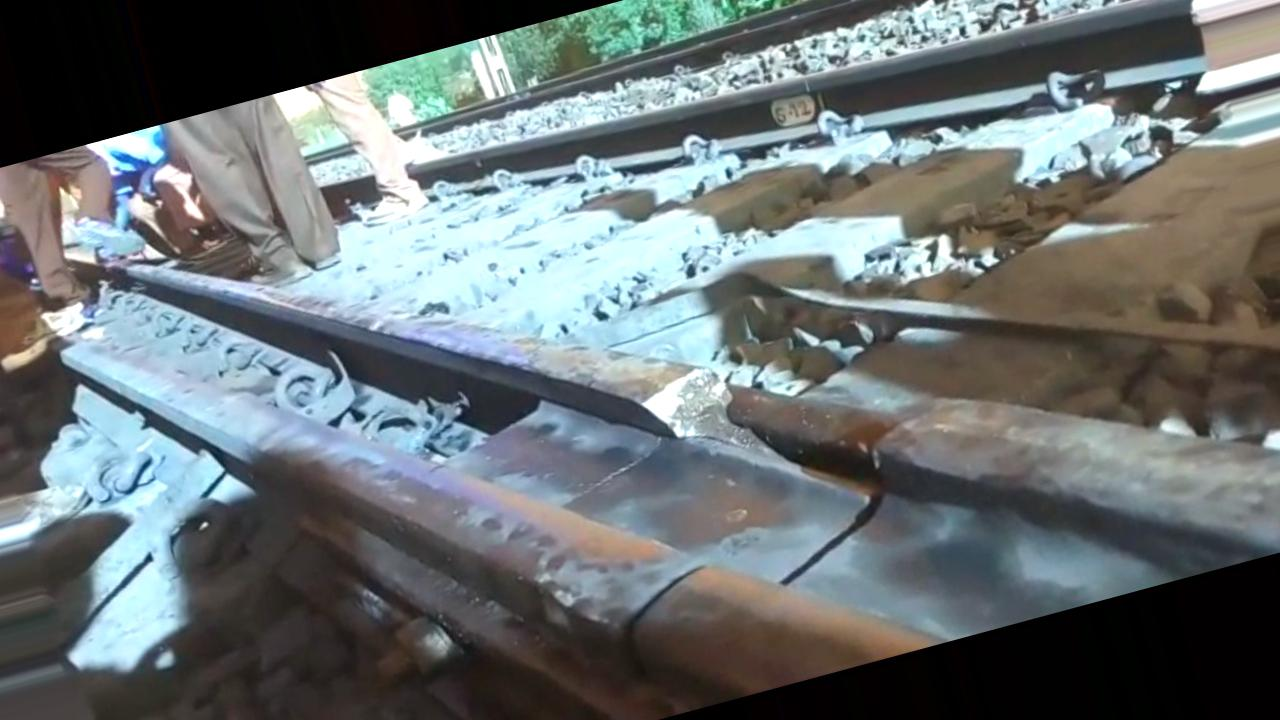tracks_fault: (644, 352, 953, 521)
